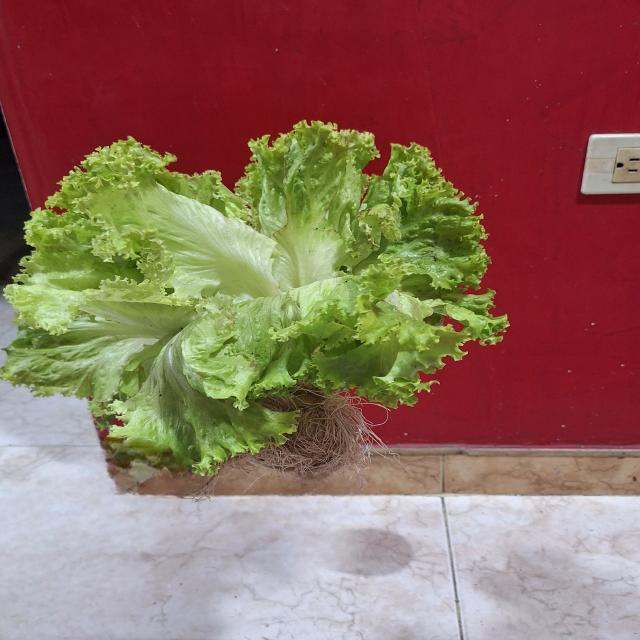lista_para_cosechar: (0, 121, 508, 475)
